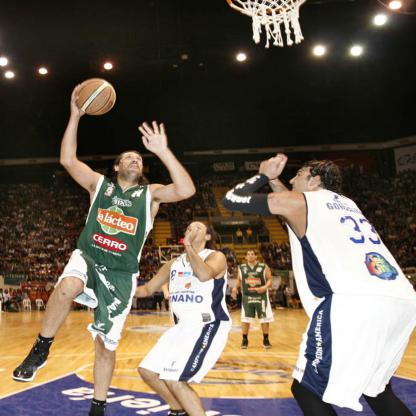face: (291, 167, 312, 199), (121, 153, 145, 175), (185, 223, 207, 243), (248, 252, 256, 263)
